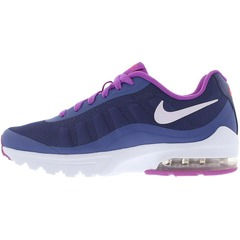nike: (153, 98, 220, 125)
